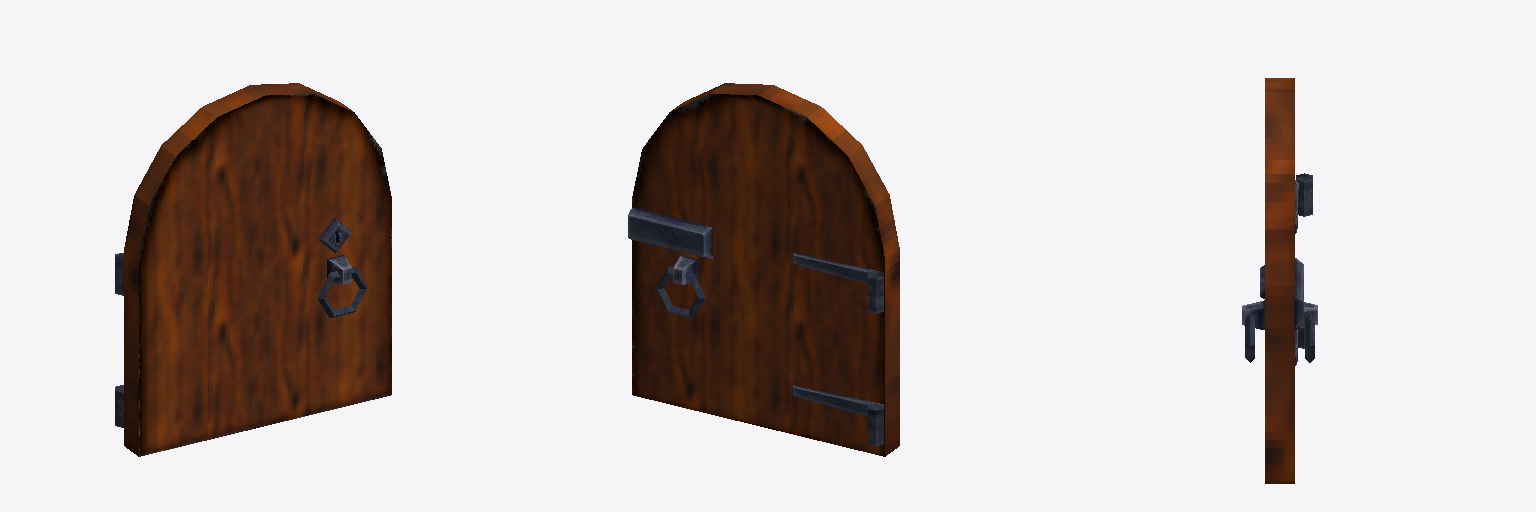
The picture shows the model from 3 angles: view 1: azimuth 30°, elevation 25°; view 2: azimuth 150°, elevation 25°; view 3: azimuth 270°, elevation 25°; orthographic projection.
Visible parts, largest first — view 1: door_door_close; view 2: door_door_close; view 3: door_door_close.
Part boxes in pixels (bbox=[...]): door_door_close: bbox=[115, 83, 391, 456]; door_door_close: bbox=[628, 83, 899, 456]; door_door_close: bbox=[1242, 78, 1317, 483].
Size of the model in its own units: 1.53 by 1.88 by 0.3943.
Materials: 1 (1 with a texture image).